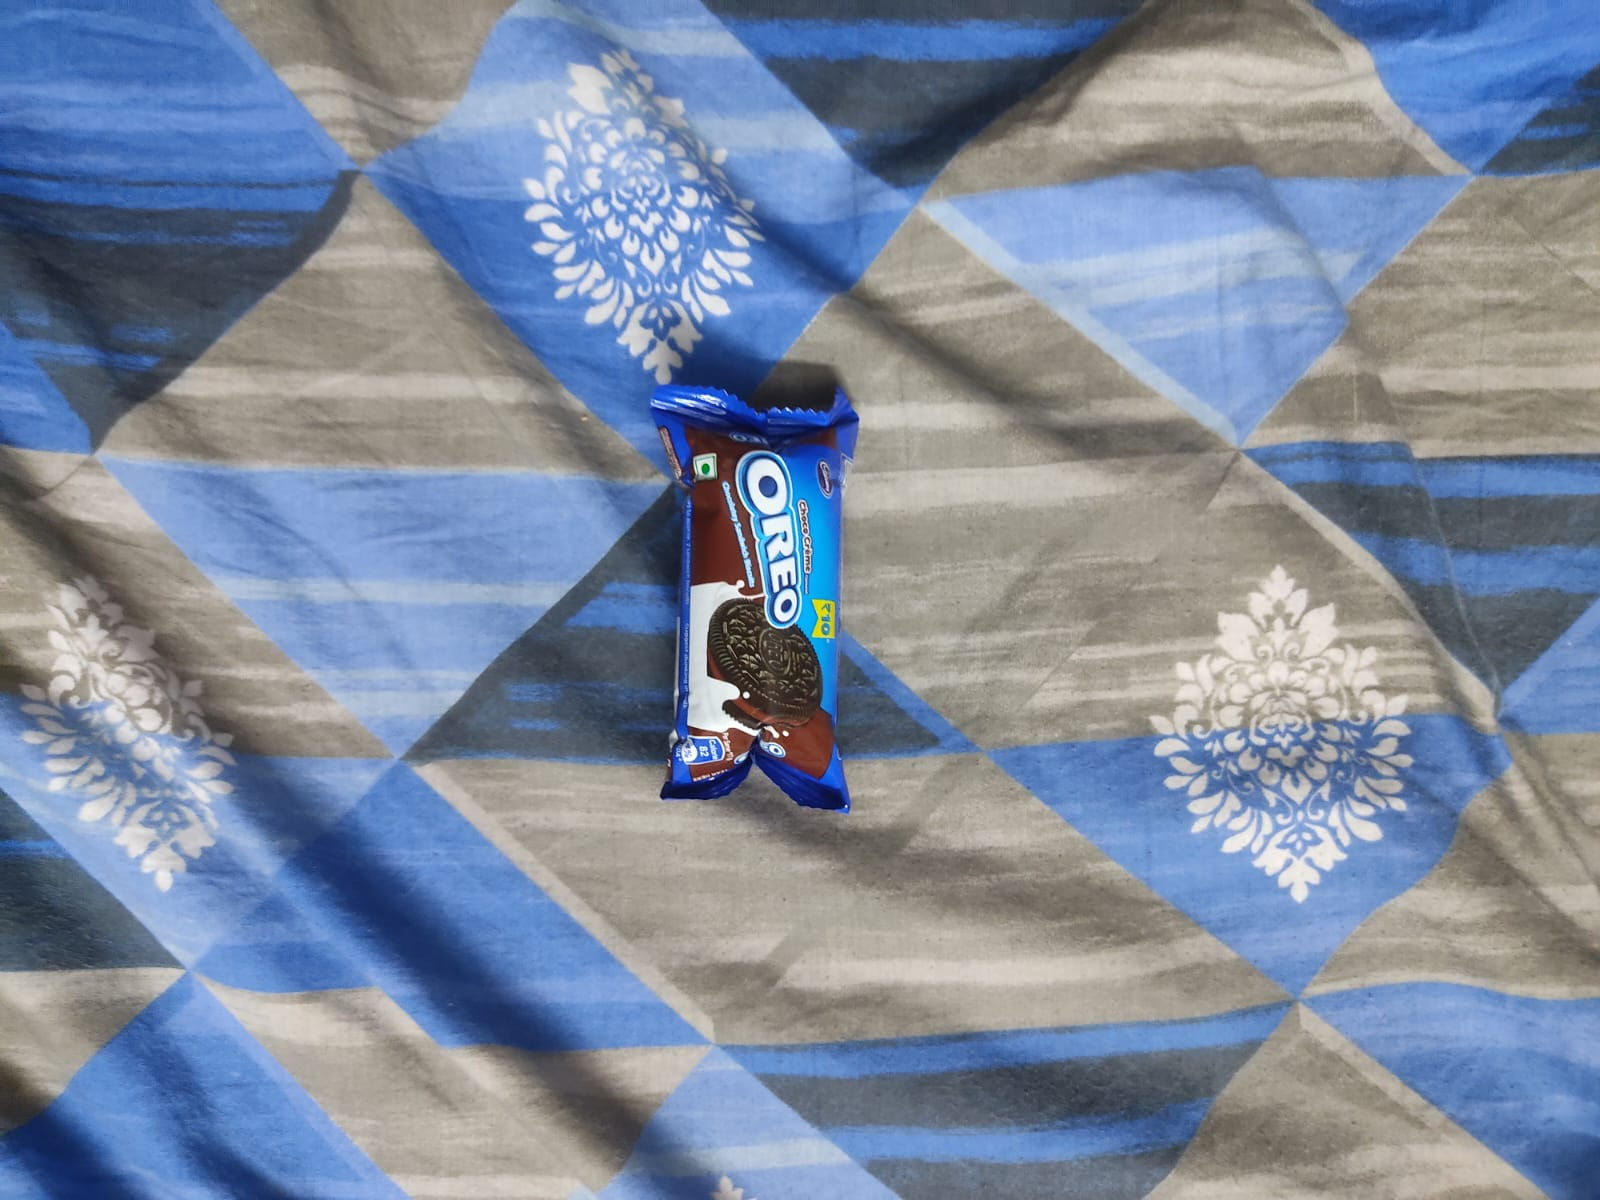010_Oreos: (671, 417, 854, 782)
